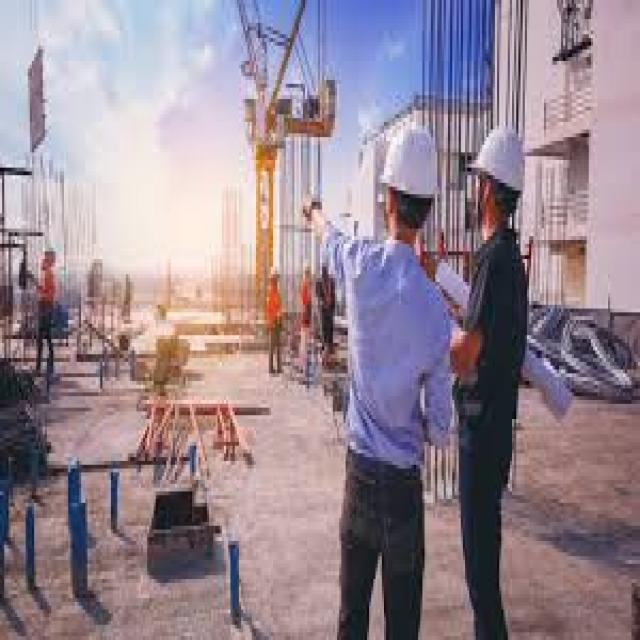Reflective-Jacket: (450, 228, 542, 431)
Safety-Helmet: (375, 114, 446, 213), (463, 118, 533, 206), (40, 236, 60, 263)
